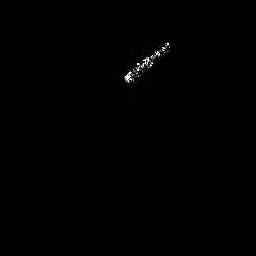ship: (118, 38, 176, 88)
